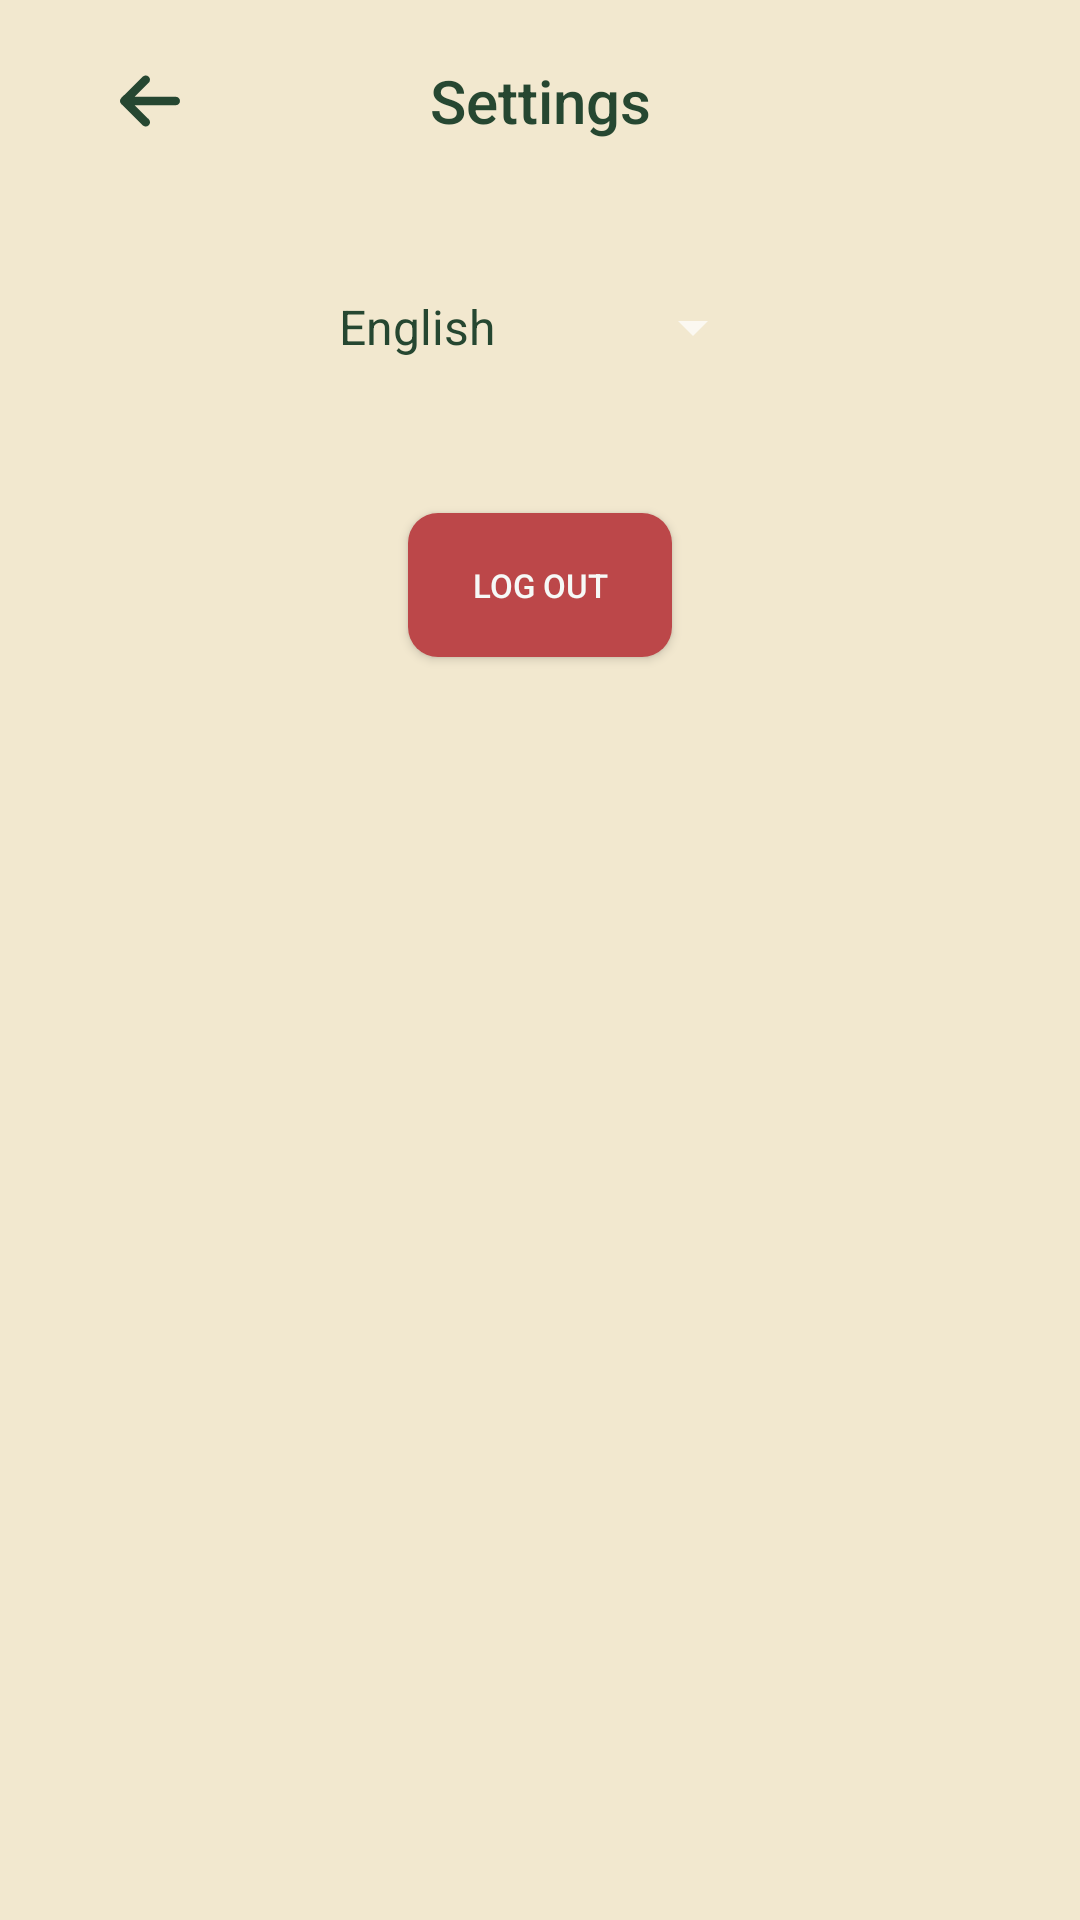

Point at icon controls on the screen. Image size 1080 x 1920, points as (x,y).
arrow left: (150,101)
